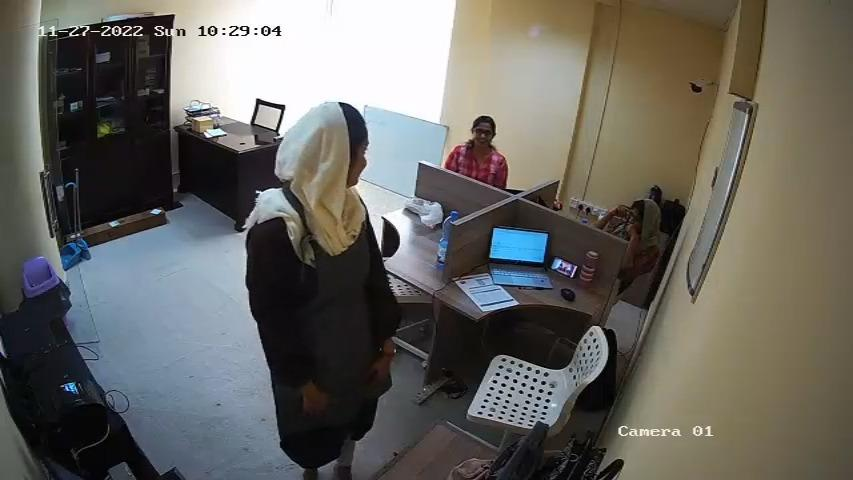apron: (292, 195, 383, 359)
